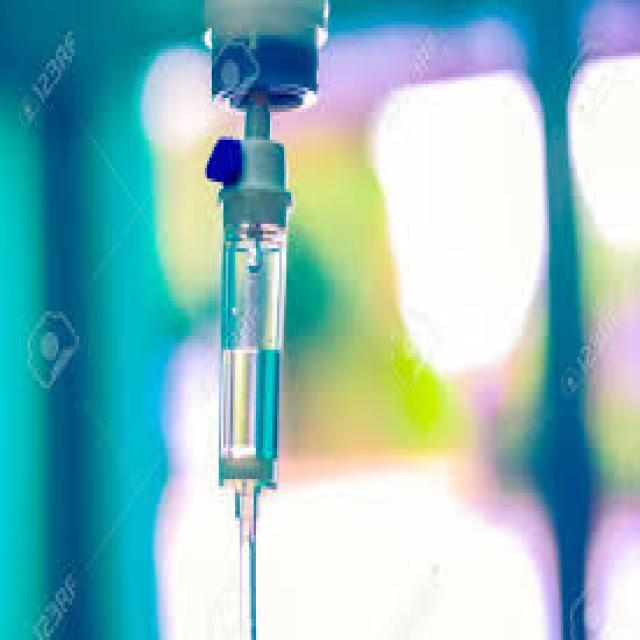iv_fluids: (156, 10, 340, 570)
